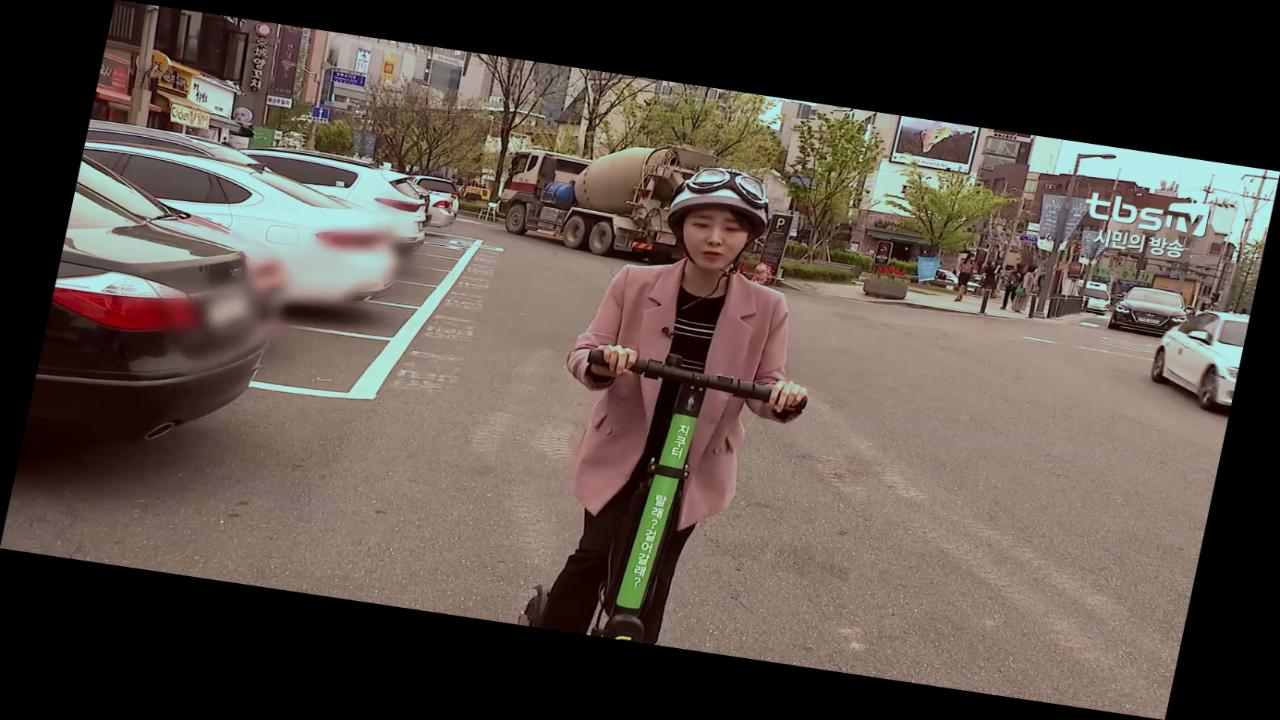helmet: (509, 148, 855, 660)
